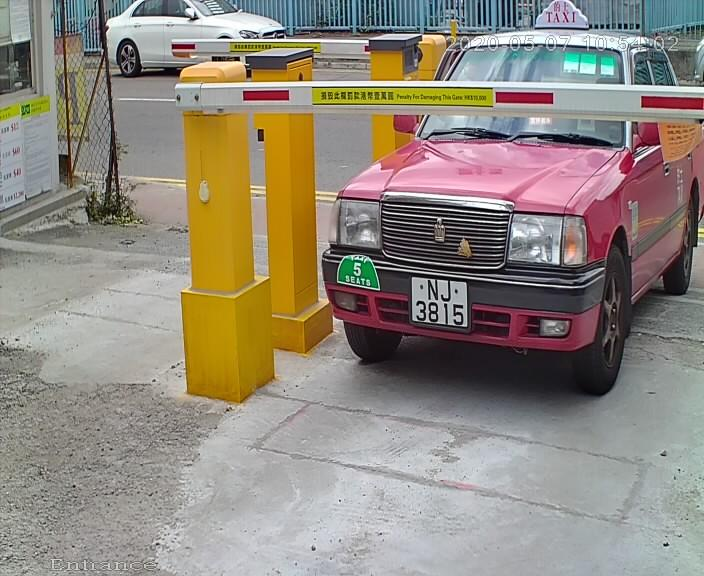Car: (296, 1, 704, 439)
License Plate: (406, 273, 475, 335)
